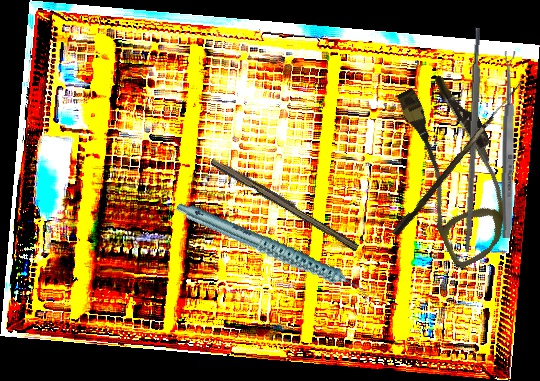Cannula: (377, 67, 535, 271)
Handpiece: (174, 165, 373, 338)
Hook Surgical: (391, 76, 523, 239)
Scalpel Handle: (208, 155, 362, 252), (462, 27, 485, 253)
Surgical Spoon: (500, 50, 517, 239)
